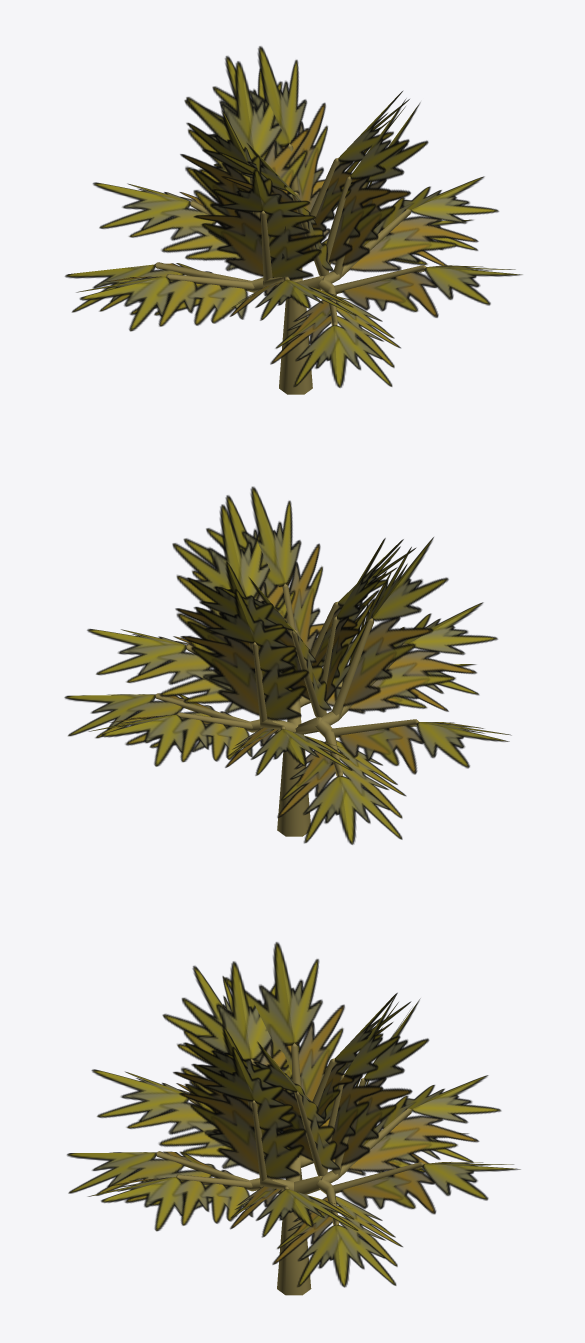
Rendered from sticklebrush.glb.
The picture shows the model from 3 angles, top to bottom: view 1: azimuth 30°, elevation 25°; view 2: azimuth 150°, elevation 25°; view 3: azimuth 270°, elevation 25°; orthographic projection.
Parts seen in each view (by area): view 1: leaf, bark; view 2: leaf, bark; view 3: leaf, bark.
Part boxes in pixels (x1,y1,x2,y2): leaf: (65, 46, 522, 387); bark: (154, 143, 426, 394); leaf: (64, 486, 511, 844); bark: (155, 583, 418, 836); leaf: (67, 942, 520, 1287); bark: (156, 1043, 423, 1295).
Size of the model in its own units: 1.88 by 1.19 by 1.95.
2 materials, 1 textured.
